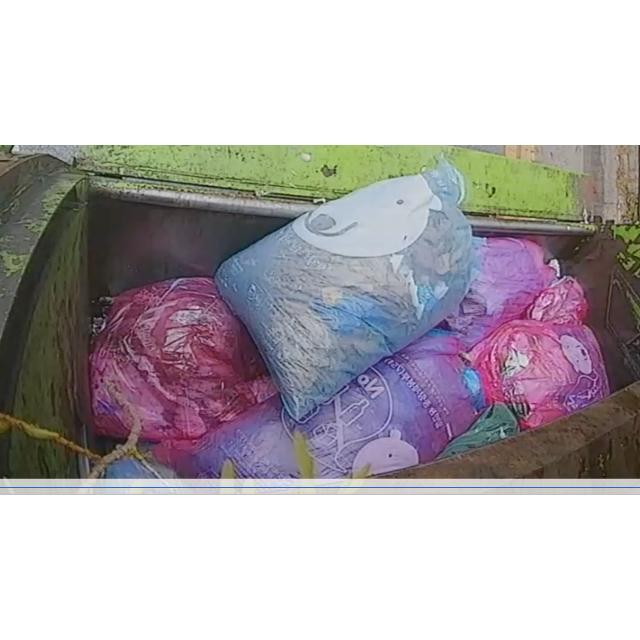other_trashbag: (215, 160, 472, 420), (151, 334, 476, 479), (90, 278, 278, 441), (468, 320, 609, 430), (446, 238, 556, 349), (526, 276, 588, 325)
